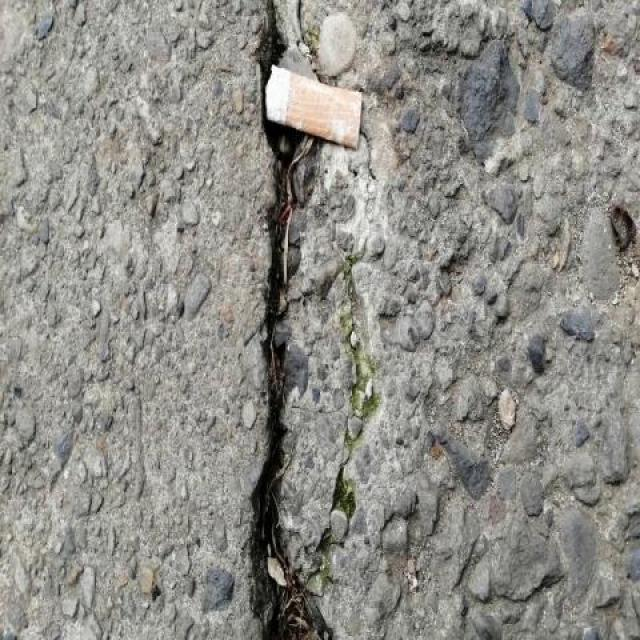non-organic waste: (259, 62, 370, 155)
